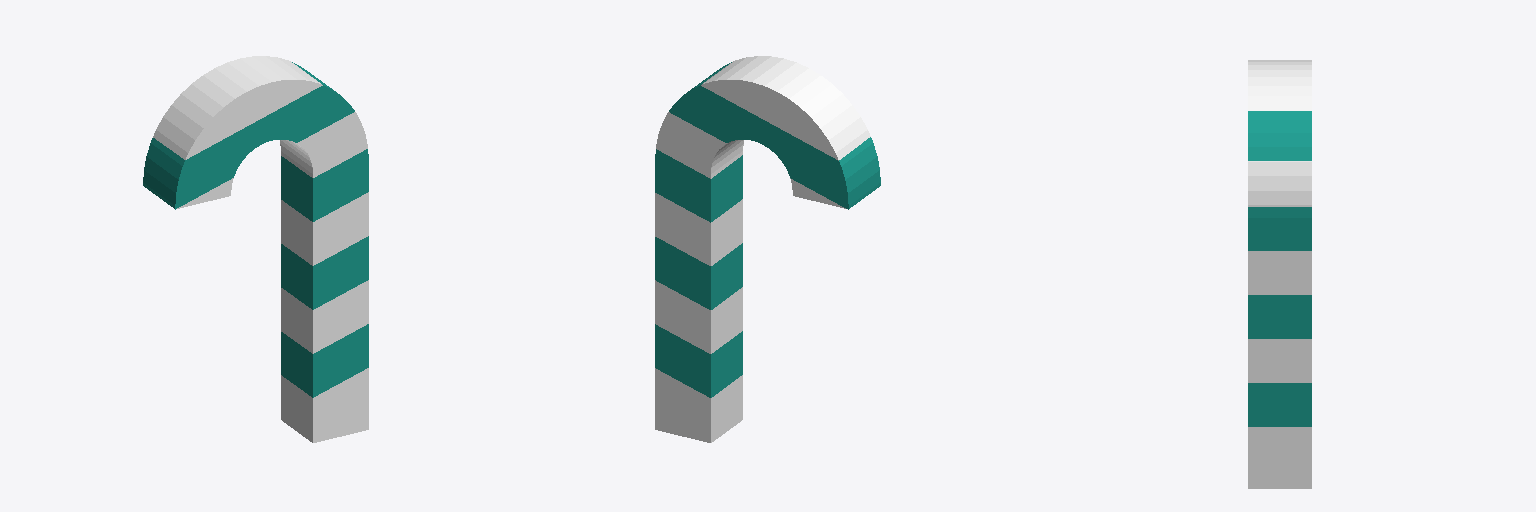
Rendered from candyCaneMint.obj.
3 views of the same model, side by side, from view 1: azimuth 30°, elevation 25°; view 2: azimuth 150°, elevation 25°; view 3: azimuth 270°, elevation 25° (orthographic).
Visible parts, largest first — view 1: candyCaneMint; view 2: candyCaneMint; view 3: candyCaneMint.
Part boxes in pixels (left/top/right/bottom): candyCaneMint: left=143, top=56, right=368, bottom=442; candyCaneMint: left=655, top=56, right=880, bottom=442; candyCaneMint: left=1248, top=60, right=1311, bottom=488.
Size of the model in its own units: 0.1383 by 0.2537 by 0.0399.